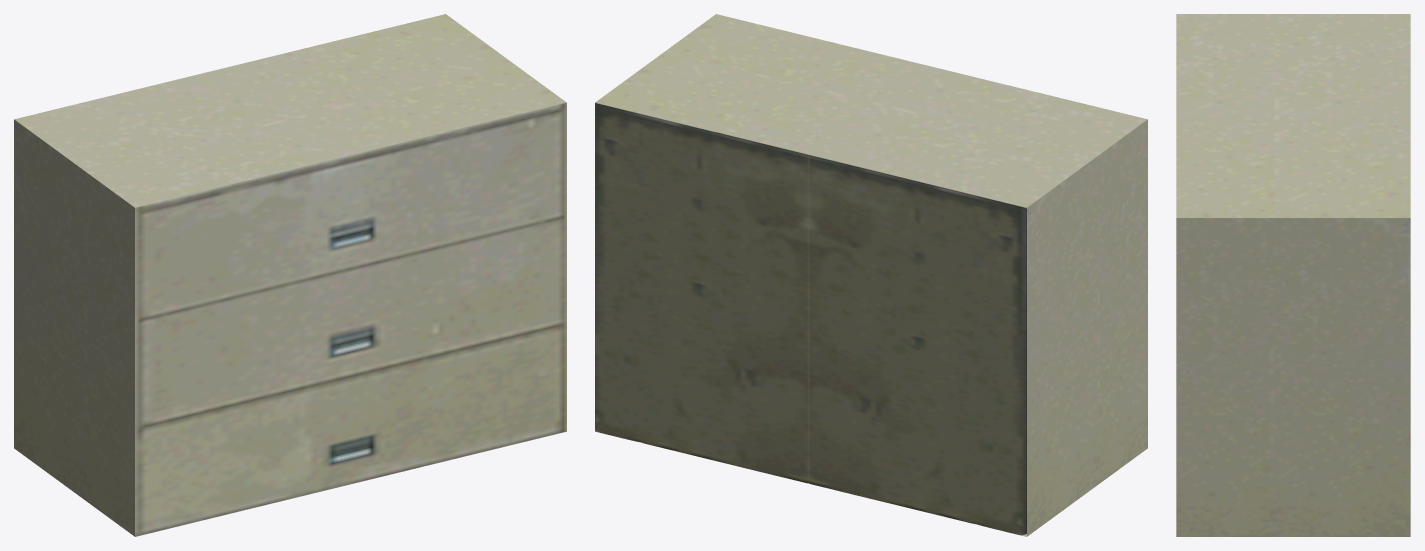
Rendered from file_cabinet_larger.obj.
3 views of the same model, side by side, from view 1: azimuth 30°, elevation 25°; view 2: azimuth 150°, elevation 25°; view 3: azimuth 270°, elevation 25° (orthographic). The views are drawn at different scales.
Visible parts, largest first — view 1: file_cabinet_larger; view 2: file_cabinet_larger; view 3: file_cabinet_larger.
Boxes of the visible parts, box(x1,y1,x2,y2) form: file_cabinet_larger: box(14, 14, 566, 536); file_cabinet_larger: box(595, 14, 1147, 536); file_cabinet_larger: box(1176, 14, 1410, 536).
Bounding box in the file's own units: 1.44 × 1.05 × 0.6994.
